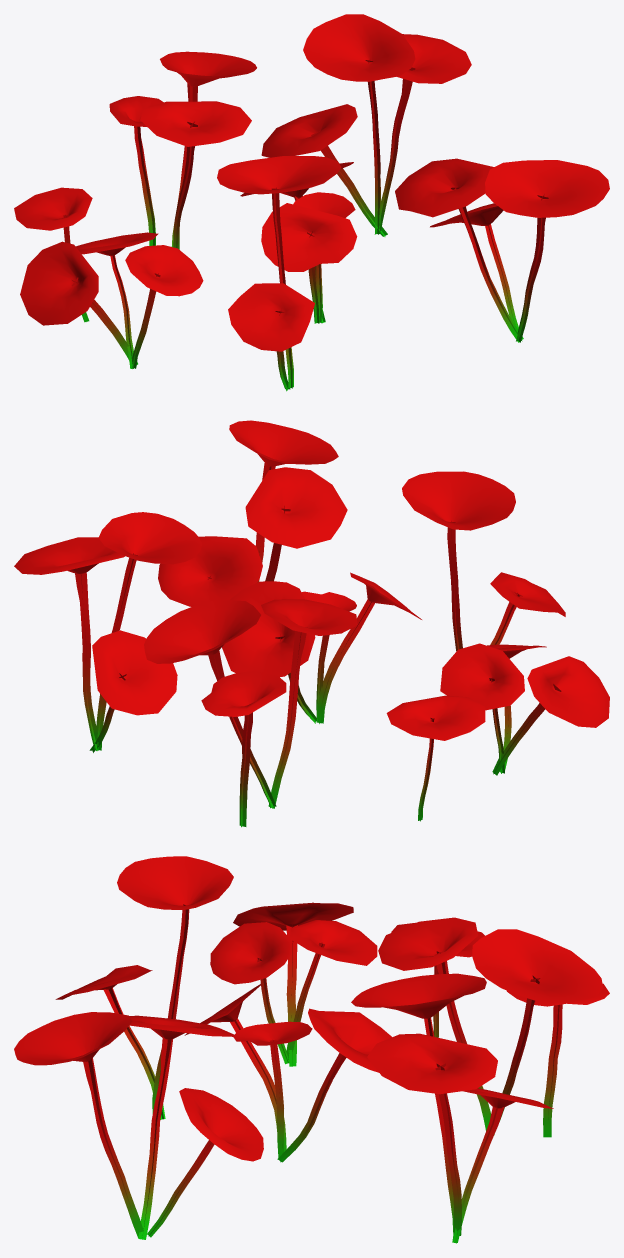
Rendered from Native Violet_LOD1_Var8_ultkcfeja.fbx.
3 views of the same model, one above another, from view 1: azimuth 30°, elevation 25°; view 2: azimuth 150°, elevation 25°; view 3: azimuth 270°, elevation 25° (orthographic). The views are drawn at different scales.
Visible parts, largest first — view 1: _e2ew_Var8_LOD1; view 2: _e2ew_Var8_LOD1; view 3: _e2ew_Var8_LOD1.
Boxes of the visible parts, box(x1,y1,x2,y2) form: _e2ew_Var8_LOD1: box(14, 14, 609, 391); _e2ew_Var8_LOD1: box(14, 420, 609, 827); _e2ew_Var8_LOD1: box(14, 856, 609, 1243).
Size of the model in its own units: 24.89 by 10.51 by 23.28.
